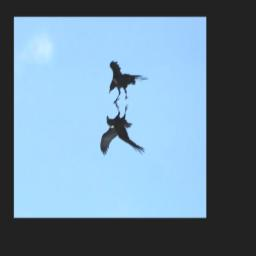Crow: (99, 100, 146, 156)
